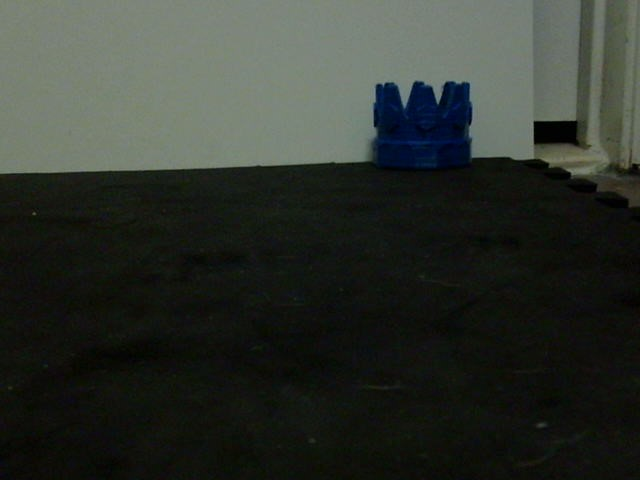crown: (368, 79, 477, 173)
